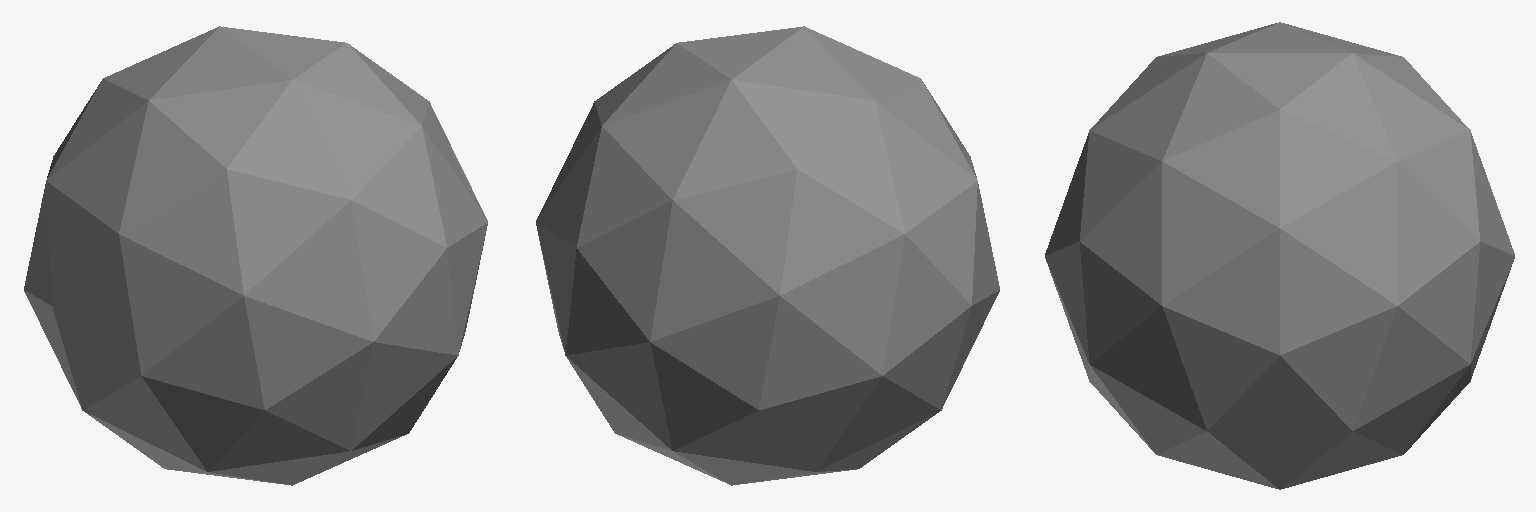
Rendered from light_sphere.obj.
3 views of the same model, side by side, from view 1: azimuth 30°, elevation 25°; view 2: azimuth 150°, elevation 25°; view 3: azimuth 270°, elevation 25° (orthographic).
Visible parts, largest first — view 1: GeoSphere001; view 2: GeoSphere001; view 3: GeoSphere001.
Boxes of the visible parts, x1=… form: GeoSphere001: x1=24, y1=26, x2=487, y2=485; GeoSphere001: x1=536, y1=26, x2=999, y2=485; GeoSphere001: x1=1045, y1=22, x2=1514, y2=489.
Bounding box in the file's own units: 18.22 × 17.33 × 18.22.